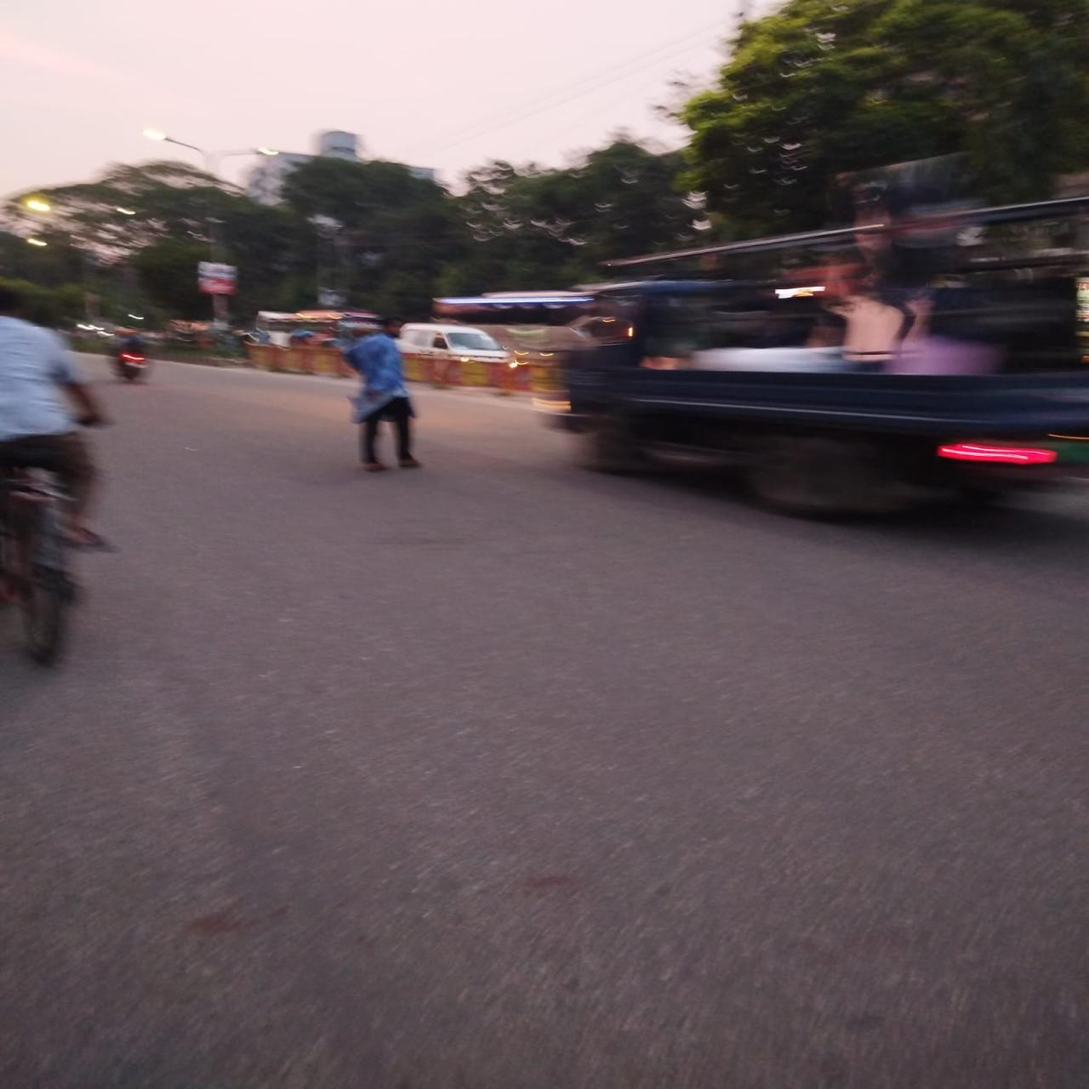person: (350, 316, 424, 477)
